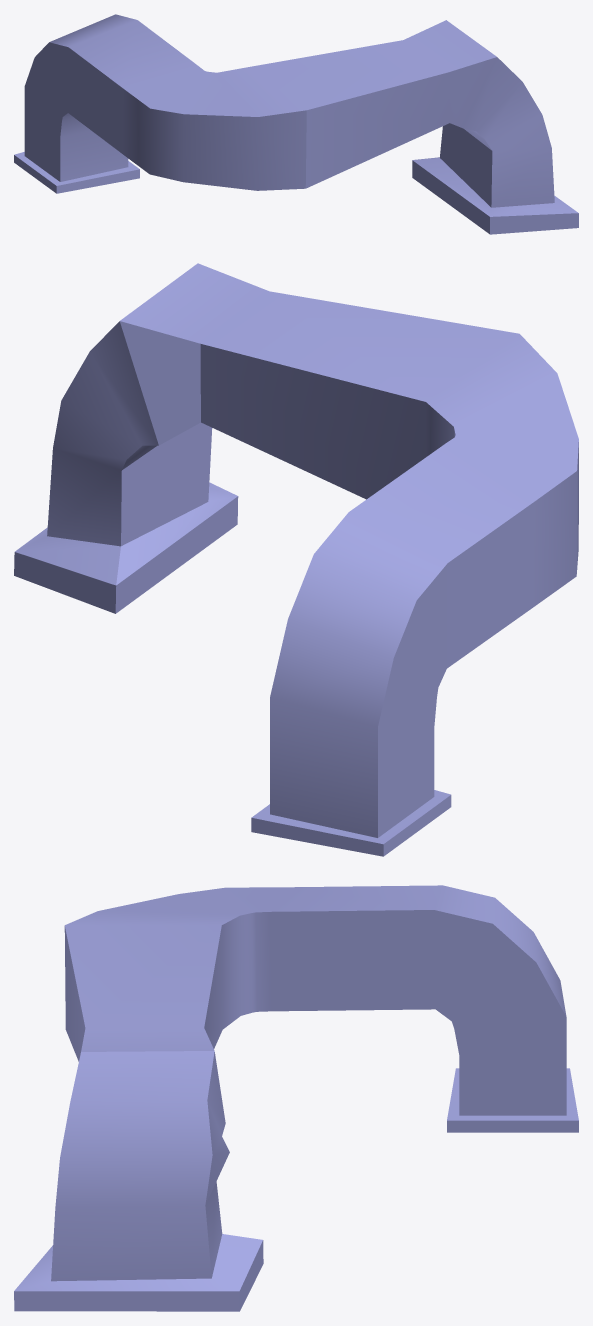
The model's file is Vent_Curve.fbx.
3 views of the same model, one above another, from view 1: azimuth 30°, elevation 25°; view 2: azimuth 150°, elevation 25°; view 3: azimuth 270°, elevation 25° (orthographic). The views are drawn at different scales.
Parts seen in each view (by area): view 1: Vent_Curve; view 2: Vent_Curve; view 3: Vent_Curve.
Boxes of the visible parts, x1,y1,x2,y2 form: Vent_Curve: (14, 14, 578, 234); Vent_Curve: (14, 263, 578, 856); Vent_Curve: (14, 885, 578, 1311).
Size of the model in its own units: 264 by 119 by 271.
